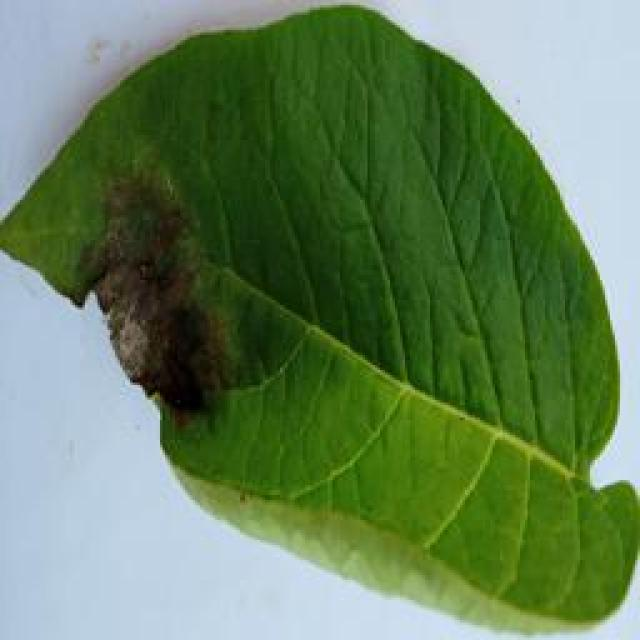Potato_Late_Blight: (0, 5, 620, 633)
